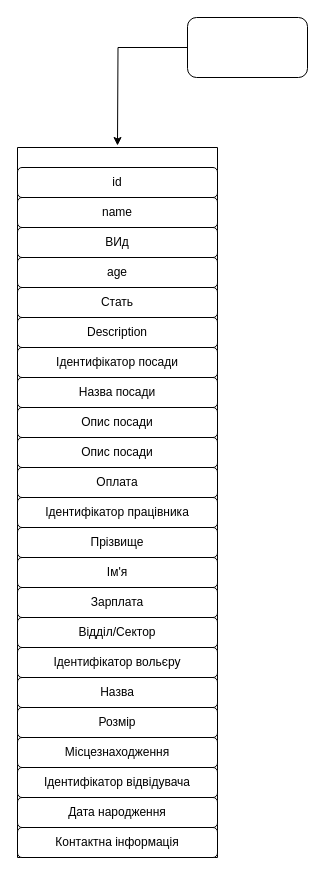
Image size: 325x875. Some labels were removed from this diagram. The shapes that lost their labels are listed below. From the top down, each one's box as (x1, y1, x2, y2) in pixels, then its label:
(186, 16, 308, 78): Entities
(16, 146, 218, 858): Animals
